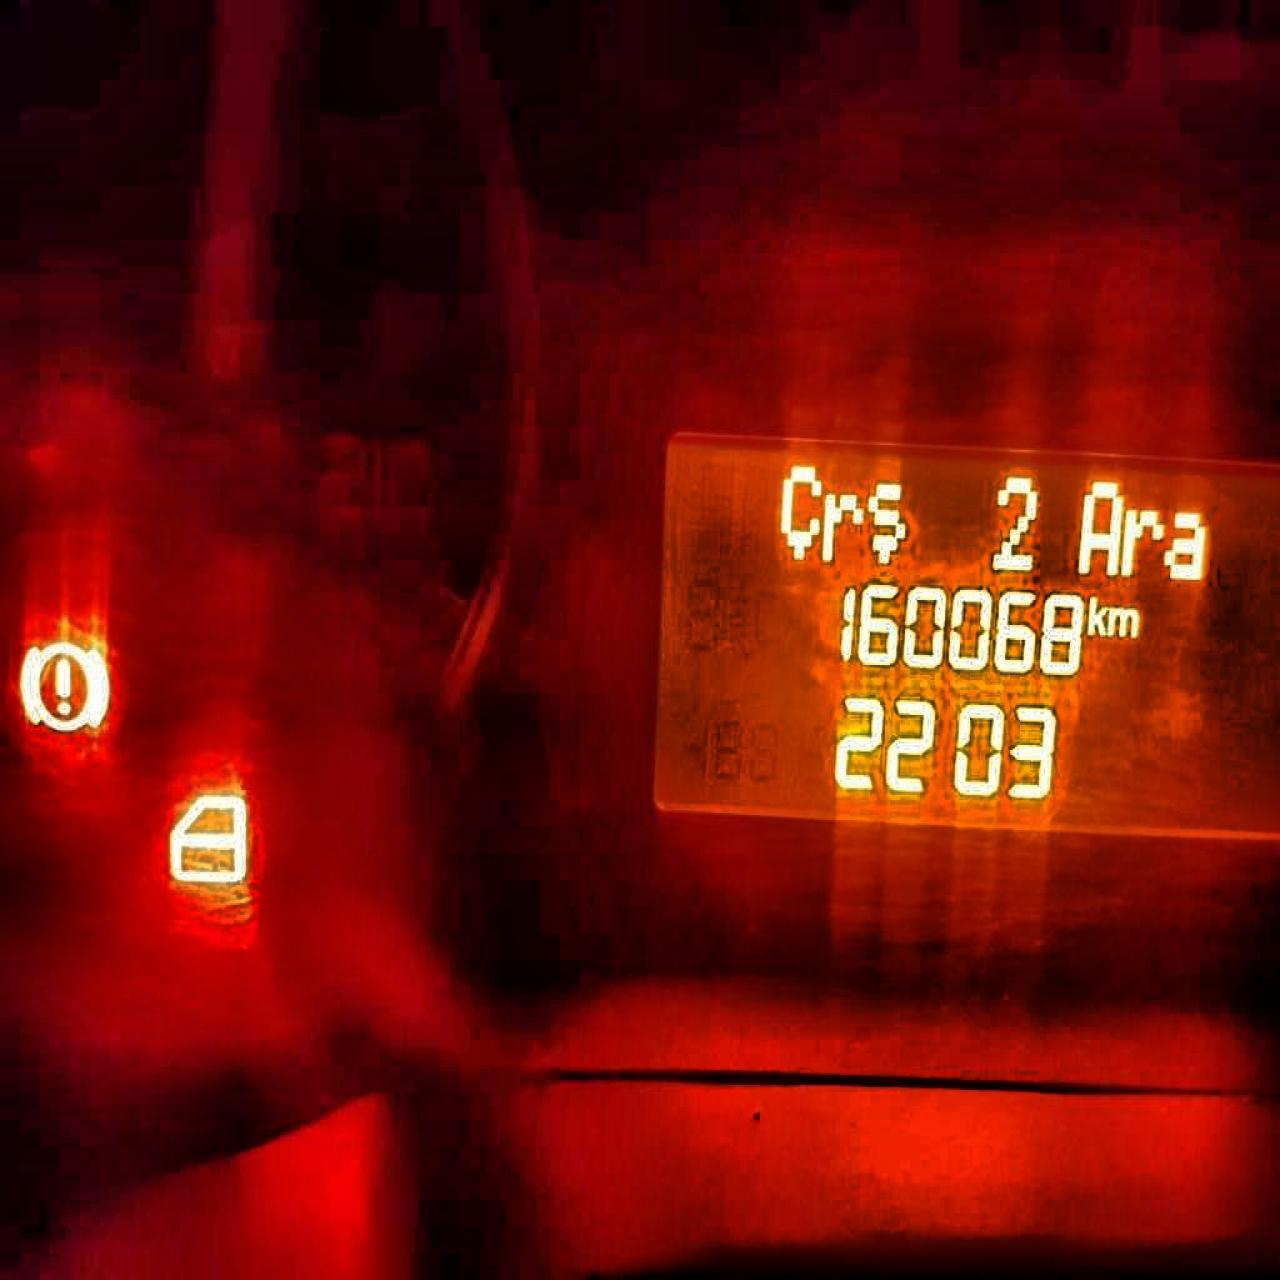0: (948, 695, 1008, 799), (945, 580, 990, 673), (903, 580, 946, 673)
1: (828, 581, 858, 668)
2: (987, 468, 1043, 577), (884, 692, 939, 801), (830, 688, 885, 797)
3: (1006, 699, 1058, 803)
6: (993, 587, 1039, 675), (858, 579, 903, 668)
8: (1039, 588, 1083, 680)
X: (775, 458, 823, 568), (1076, 471, 1123, 580), (1160, 505, 1211, 585), (866, 474, 905, 567), (823, 486, 865, 565), (1124, 505, 1164, 580), (1107, 597, 1142, 640), (1083, 585, 1105, 640)
odometer: (636, 410, 1279, 855)
